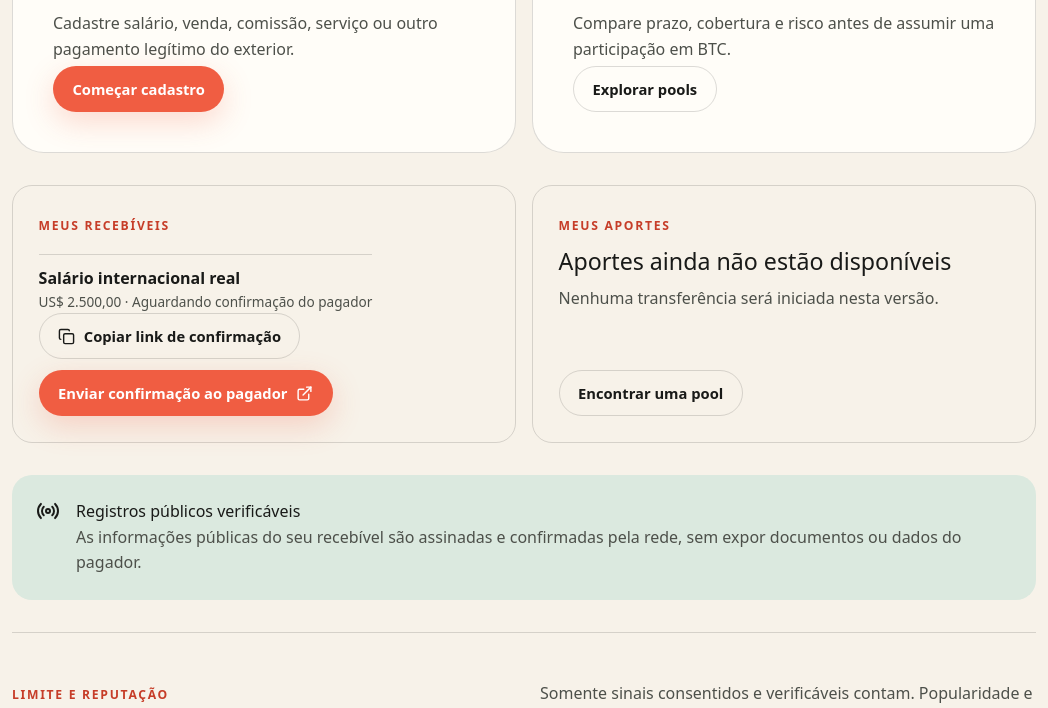
Test case: AuthenticatedDashboard › mostra o recebível PostgreSQL e ignora recebíveis e aportes locais em LRP
(page scrolled)
Expected: the text "Salário internacional real" is shown, [39,267,240,289]
Click the button "Copiar link de confirmação": (170, 336) [39,313,300,359]
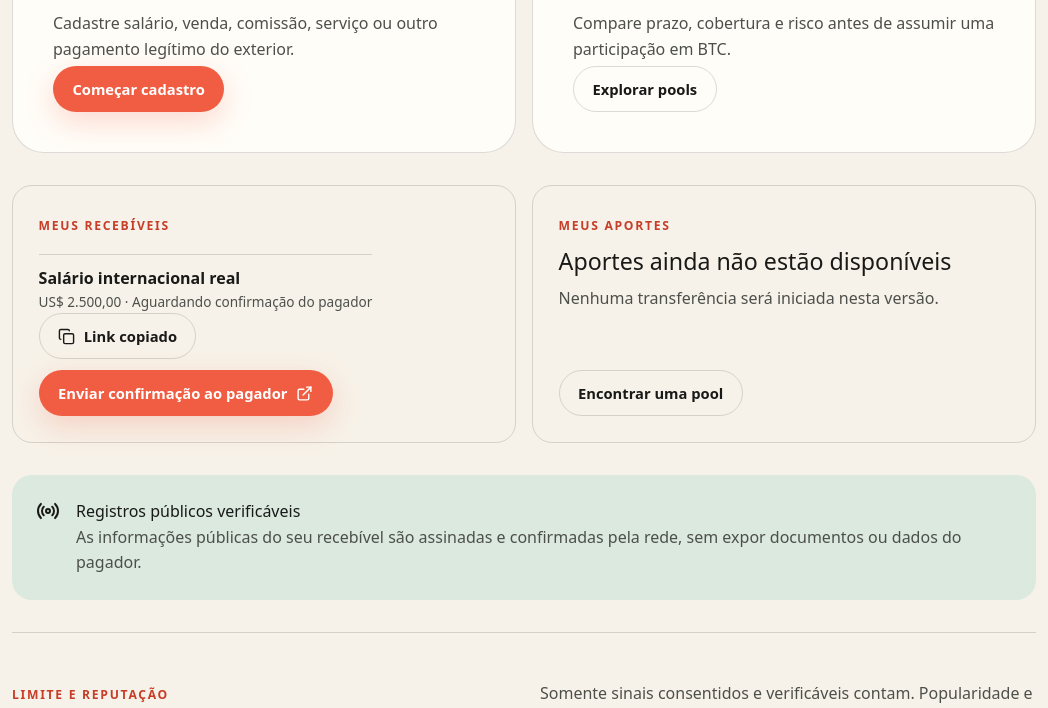
Expected: the heading "Aportes ainda não estão disponíveis" is shown, [559,243,951,280]
Now the button "Link copiado" is shown, box [39,313,196,359]
